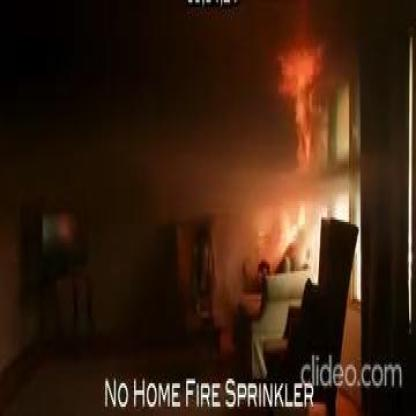fire: (274, 42, 323, 173), (275, 203, 307, 255)
